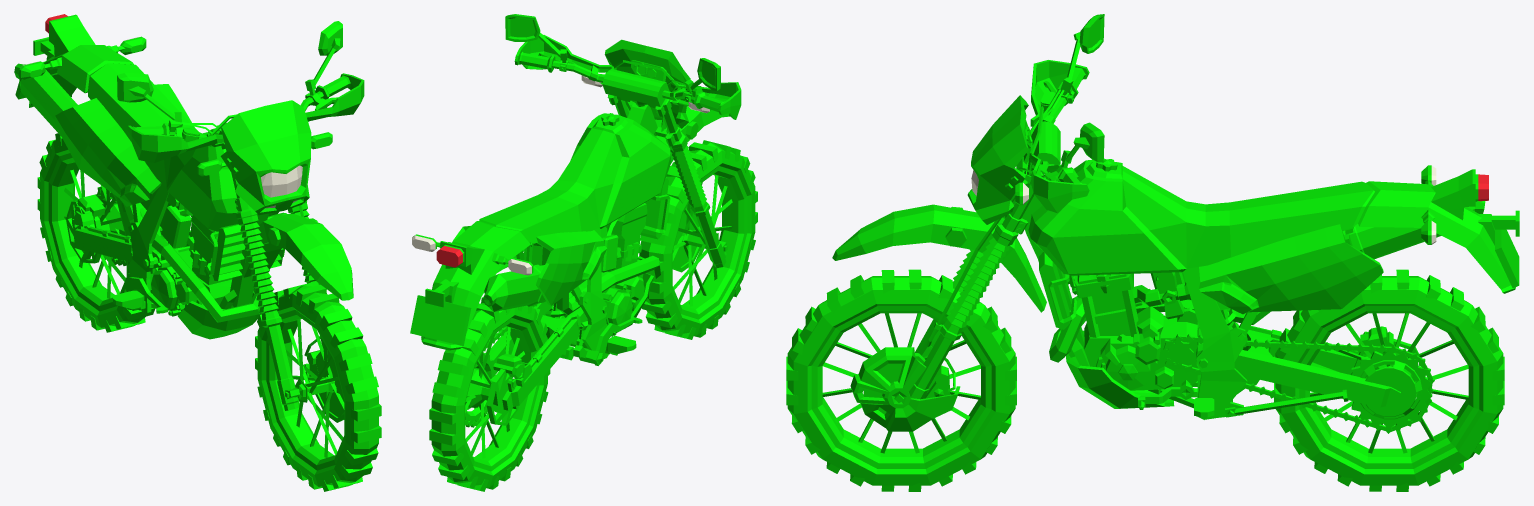
The model's file is SM_Motorcycle_Offroad_Modern.fbx.
3 renders of one model, left to right at view 1: azimuth 30°, elevation 25°; view 2: azimuth 150°, elevation 25°; view 3: azimuth 270°, elevation 25°, orthographic. The views are drawn at different scales.
Parts seen in each view (by area): view 1: SM_Motorcycle_Offroad_Modern_Base, SM_Motorcycle_Offroad_Modern_Handlebars, SM_Motorcycle_Offroad_Modern_Wheel_F, SM_Motorcycle_Offroad_Modern_Wheel_B; view 2: SM_Motorcycle_Offroad_Modern_Base, SM_Motorcycle_Offroad_Modern_Handlebars, SM_Motorcycle_Offroad_Modern_Wheel_B, SM_Motorcycle_Offroad_Modern_Wheel_F; view 3: SM_Motorcycle_Offroad_Modern_Base, SM_Motorcycle_Offroad_Modern_Handlebars, SM_Motorcycle_Offroad_Modern_Wheel_B, SM_Motorcycle_Offroad_Modern_Wheel_F.
Part boxes in pixels (x1=…): SM_Motorcycle_Offroad_Modern_Base: x1=14, y1=14, x2=286, y2=339; SM_Motorcycle_Offroad_Modern_Handlebars: x1=117, y1=21, x2=364, y2=422; SM_Motorcycle_Offroad_Modern_Wheel_F: x1=255, y1=282, x2=381, y2=491; SM_Motorcycle_Offroad_Modern_Wheel_B: x1=37, y1=133, x2=161, y2=332; SM_Motorcycle_Offroad_Modern_Base: x1=410, y1=102, x2=671, y2=427; SM_Motorcycle_Offroad_Modern_Handlebars: x1=505, y1=14, x2=741, y2=272; SM_Motorcycle_Offroad_Modern_Wheel_B: x1=429, y1=296, x2=550, y2=491; SM_Motorcycle_Offroad_Modern_Wheel_F: x1=637, y1=140, x2=757, y2=339; SM_Motorcycle_Offroad_Modern_Base: x1=1012, y1=158, x2=1519, y2=433; SM_Motorcycle_Offroad_Modern_Handlebars: x1=832, y1=14, x2=1104, y2=431; SM_Motorcycle_Offroad_Modern_Wheel_B: x1=1274, y1=269, x2=1504, y2=491; SM_Motorcycle_Offroad_Modern_Wheel_F: x1=786, y1=269, x2=1016, y2=491.
Bounding box in the file's own units: 0.9025 × 1.42 × 2.29.
